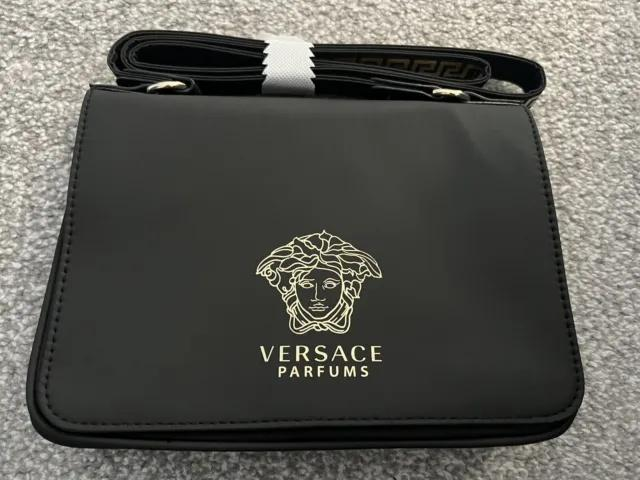VERSACE: (255, 229, 382, 335)
